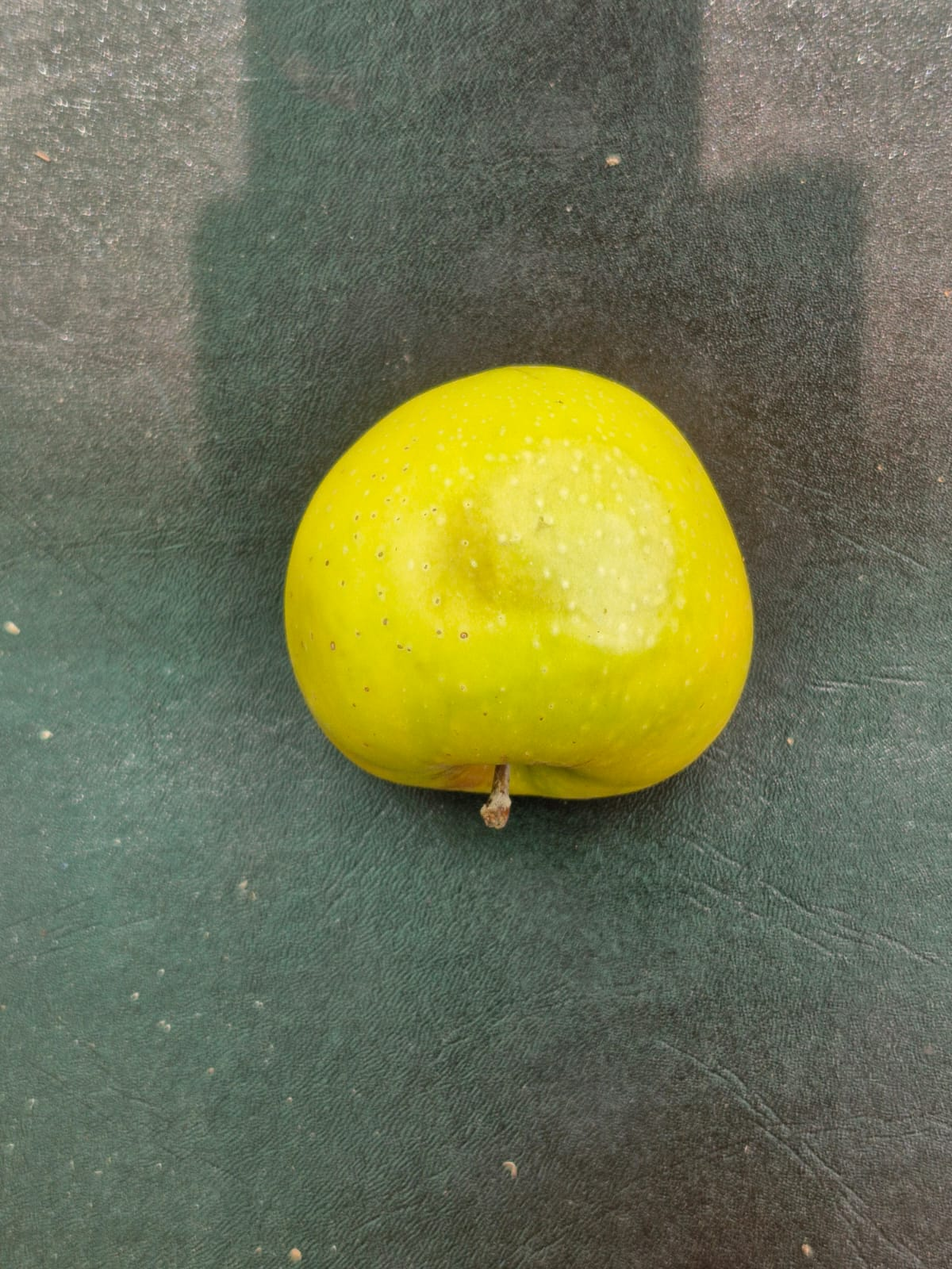apple: (67, 110, 713, 980)
